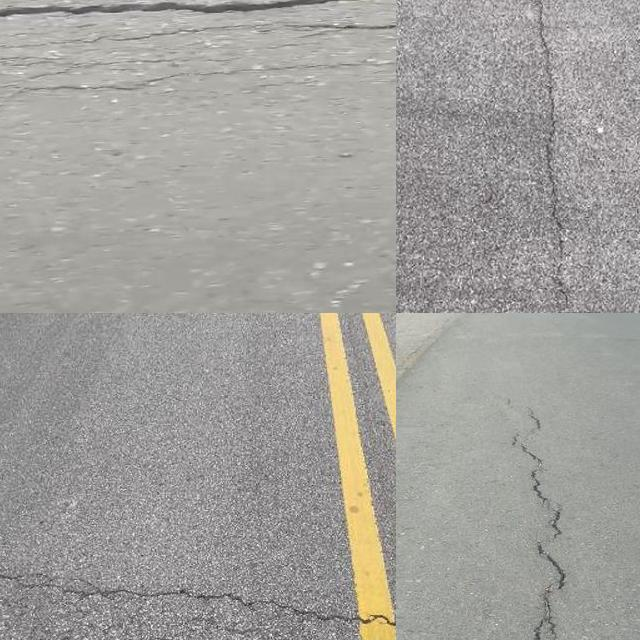Melintang: (0, 558, 396, 640), (0, 0, 396, 34)
Memanjang: (518, 0, 586, 313), (506, 397, 578, 640)
